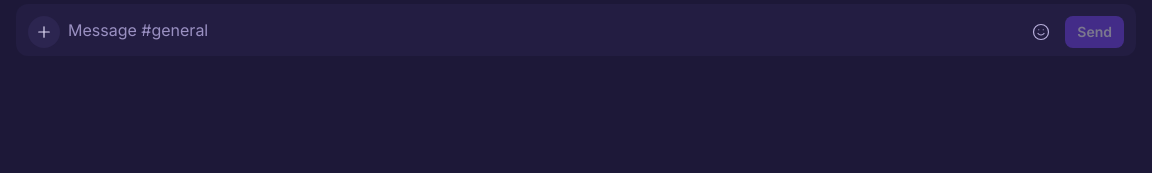
Test: a refusal keeps the text and shows the reason; an empty prompt is caught first
Type "/imagine" into the text box labelled "Message #general".
click(543, 30); type("/imagine")  # box x1=68 y1=12 x2=1017 y2=48
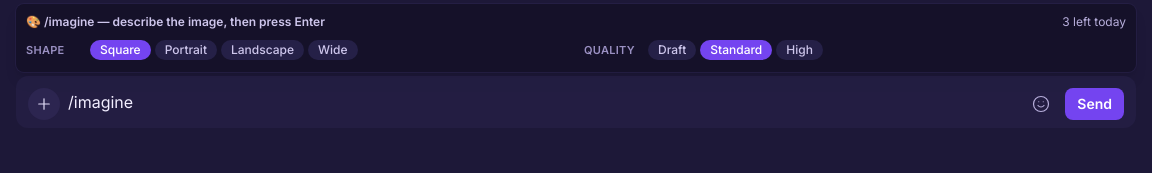
Press Enter in the text box named "Message #general", box x1=68 y1=84 x2=1017 y2=120
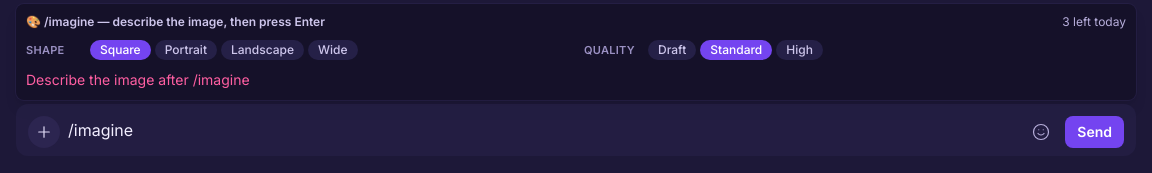
Result: the message reads "Describe the image after /imagine" at x1=26 y1=71 x2=250 y2=88
Replace the text in the text box named "Message #general" with "/imagine a dog" at (543, 130), box x1=68 y1=112 x2=1017 y2=148
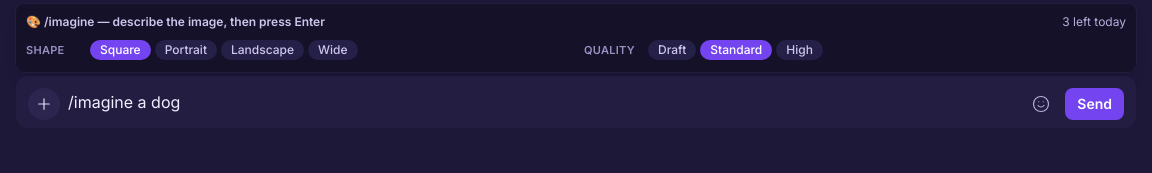
Press Enter in the text box named "Message #general", box x1=68 y1=84 x2=1017 y2=120
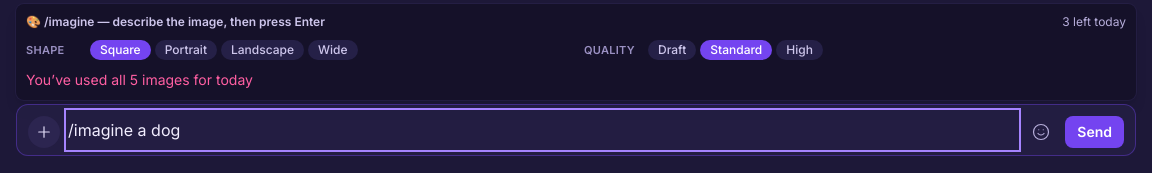
Result: the message reads "You’ve used all 5 images for today" at x1=26 y1=71 x2=253 y2=88
